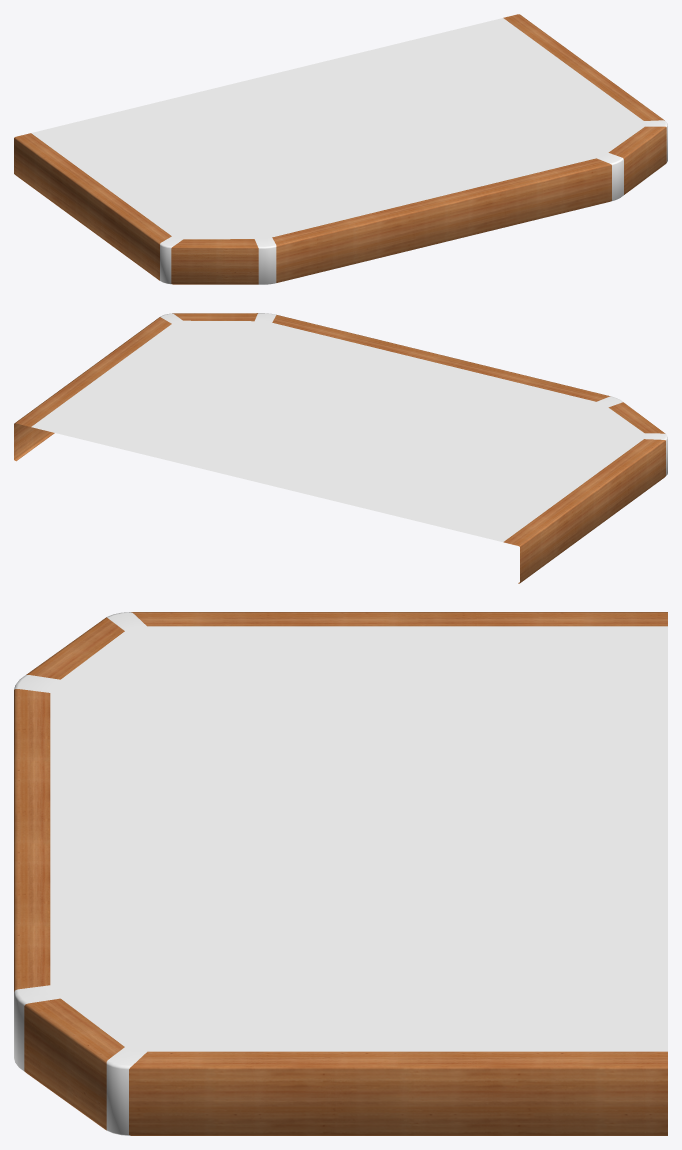
Rendered from Stage.fbx.
3 views of the same model, one above another, from view 1: azimuth 30°, elevation 25°; view 2: azimuth 150°, elevation 25°; view 3: azimuth 270°, elevation 25° (orthographic). The views are drawn at different scales.
Visible parts, largest first — view 1: Stage; view 2: Stage; view 3: Stage.
Boxes of the visible parts, x1=… form: Stage: x1=14, y1=14, x2=667, y2=284; Stage: x1=14, y1=313, x2=667, y2=583; Stage: x1=14, y1=612, x2=667, y2=1135.
Bounding box in the file's own units: 976 × 69.57 × 591.
1 material, 1 textured.
